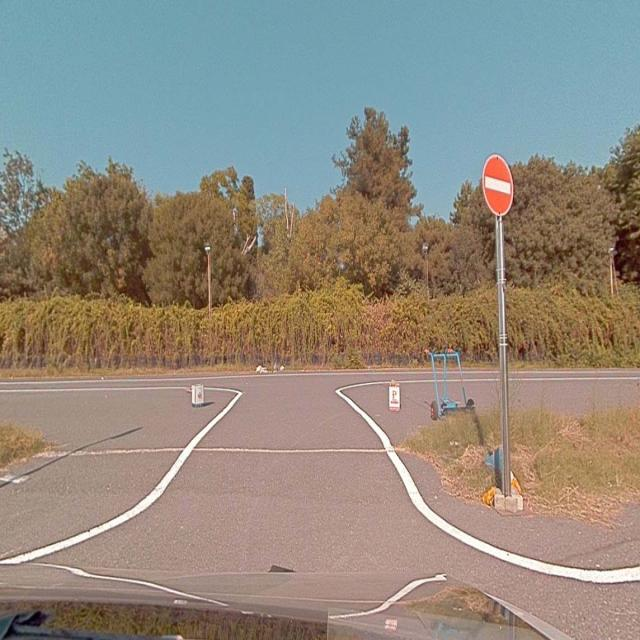girisyok: (482, 153, 514, 211)
